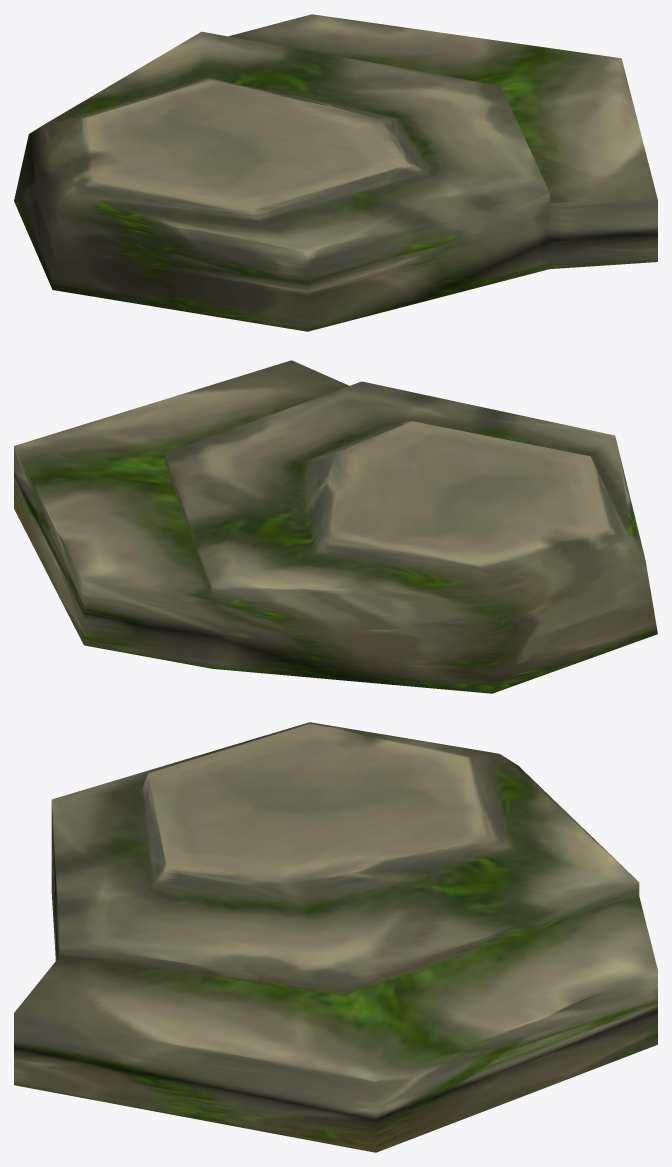
The model's file is RockFormation_4_5 (44).fbx.
3 renders of one model, top to bottom at view 1: azimuth 30°, elevation 25°; view 2: azimuth 150°, elevation 25°; view 3: azimuth 270°, elevation 25°, orthographic. The views are drawn at different scales.
Parts seen in each view (by area): view 1: RockFormation_4_5 (44); view 2: RockFormation_4_5 (44); view 3: RockFormation_4_5 (44).
Boxes of the visible parts, x1,y1,x2,y2 form: RockFormation_4_5 (44): [14, 14, 657, 331]; RockFormation_4_5 (44): [14, 360, 657, 693]; RockFormation_4_5 (44): [14, 722, 657, 1152].
Size of the model in its own units: 2896 by 437 by 2296.
